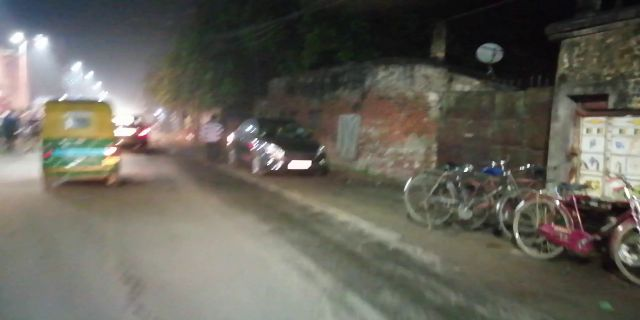Autorickshaw: (39, 94, 118, 194)
